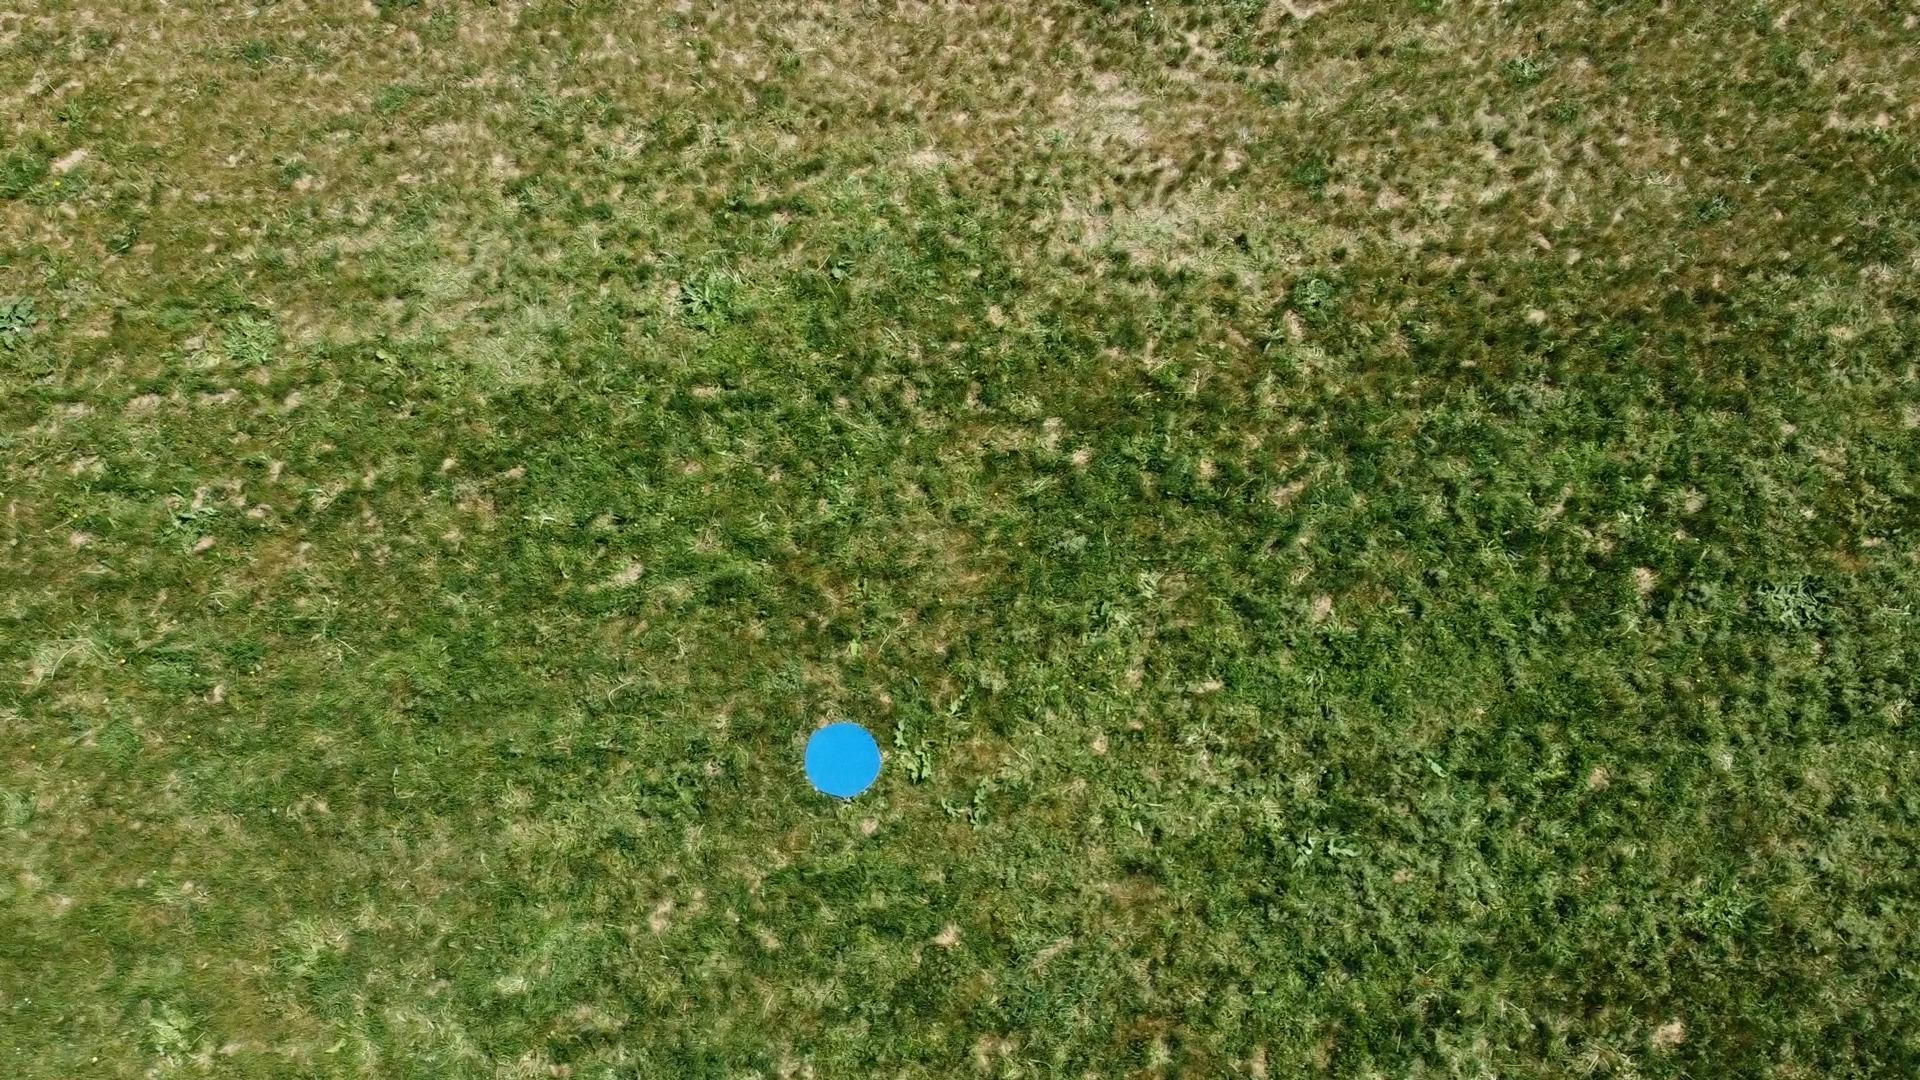Blue: (799, 717, 886, 806)
